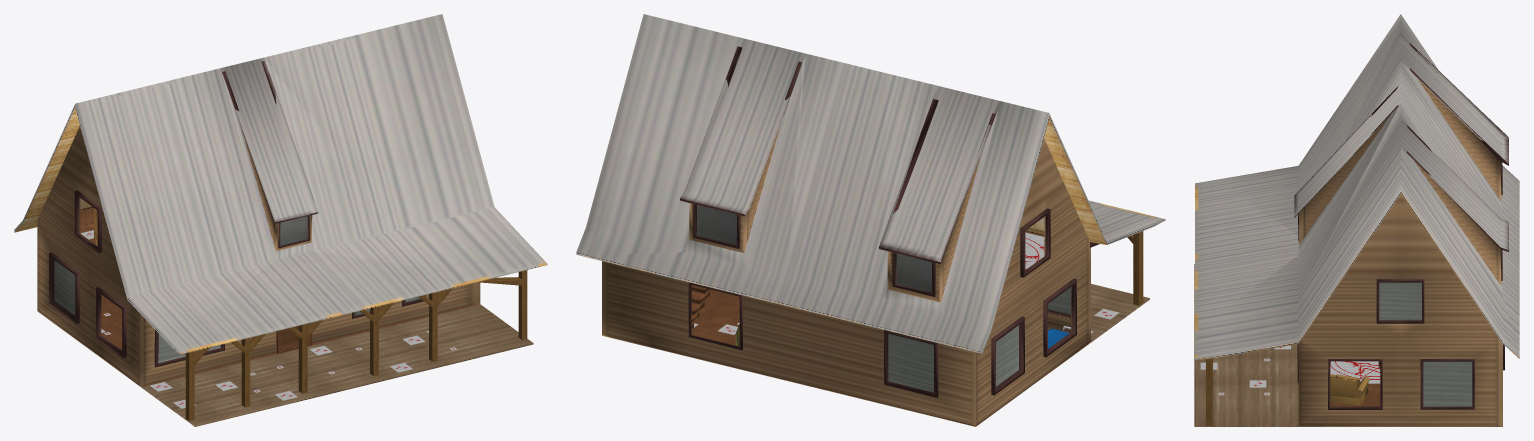
The model's file is MAP4.fbx.
3 views of the same model, side by side, from view 1: azimuth 30°, elevation 25°; view 2: azimuth 150°, elevation 25°; view 3: azimuth 270°, elevation 25° (orthographic). The views are drawn at different scales.
Parts seen in each view (by area): view 1: UP, House01, House02, Door; view 2: UP, House01, House02, Alpha_04; view 3: UP, House01, Sofa2, Alpha_01, House02.
Part boxes in pixels (bbox=[...]): UP: bbox=[14, 14, 547, 354]; House01: bbox=[37, 126, 533, 426]; House02: bbox=[185, 270, 527, 420]; Door: bbox=[276, 323, 312, 353]; UP: bbox=[576, 14, 1165, 353]; House01: bbox=[602, 138, 1149, 426]; House02: bbox=[1127, 231, 1143, 305]; Alpha_04: bbox=[1025, 232, 1044, 269]; UP: bbox=[1195, 14, 1519, 359]; House01: bbox=[1194, 194, 1504, 426]; Sofa2: bbox=[1330, 374, 1369, 405]; Alpha_01: bbox=[1330, 361, 1380, 383]; House02: bbox=[1206, 358, 1212, 425].
Size of the model in its own units: 1283 by 834 by 1006.
